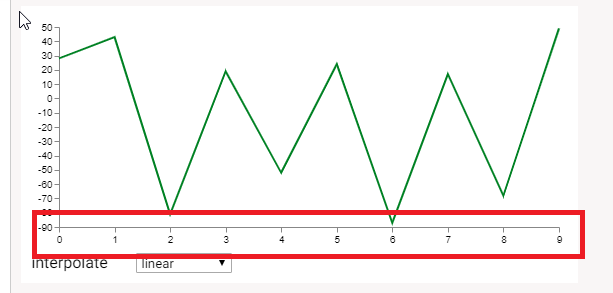S1_AxisNotZero: (26, 5, 577, 275)
